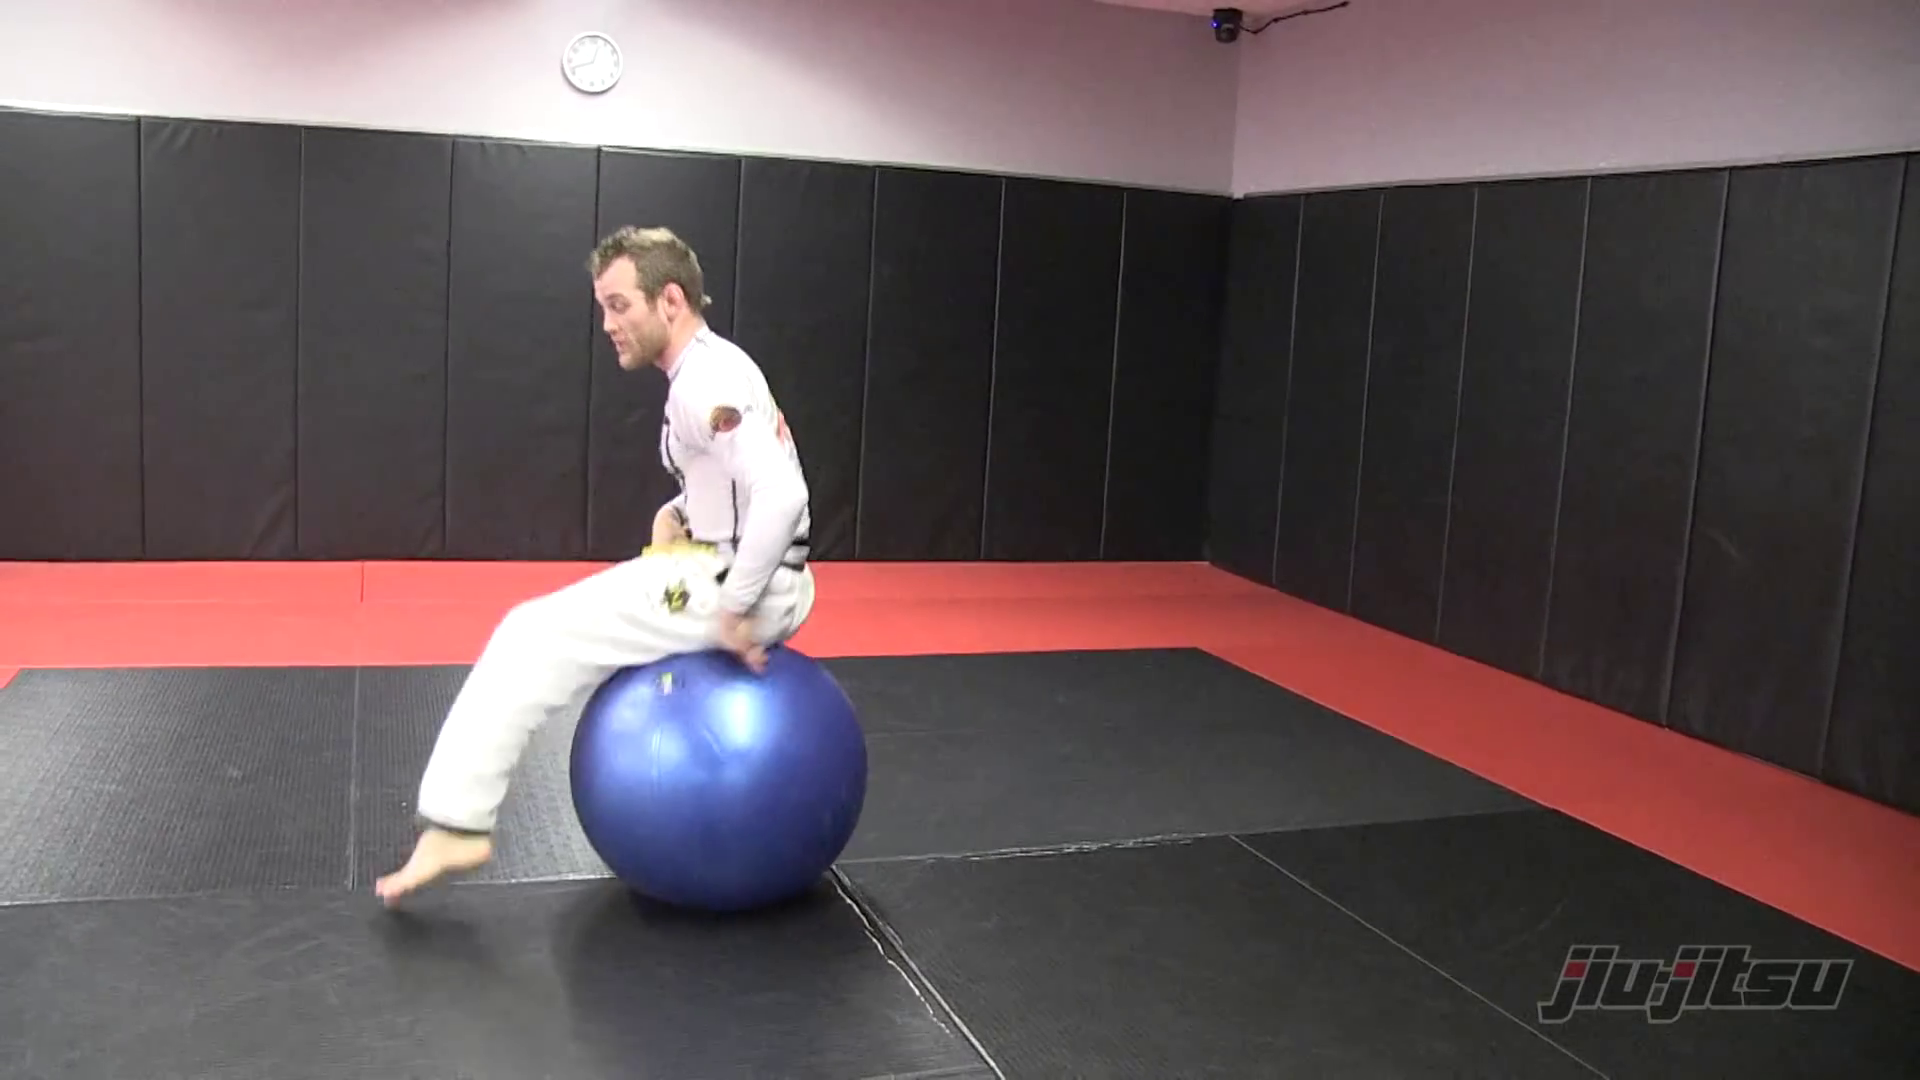yogaball: (556, 632, 889, 932)
